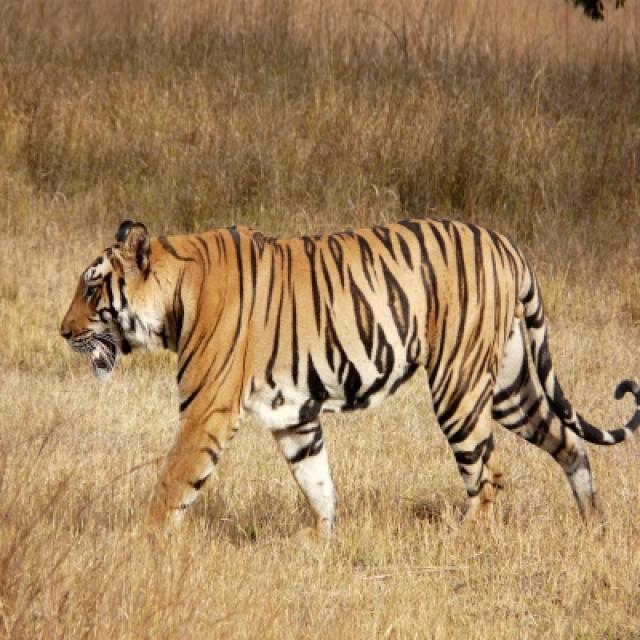Tiger: (57, 213, 638, 531)
